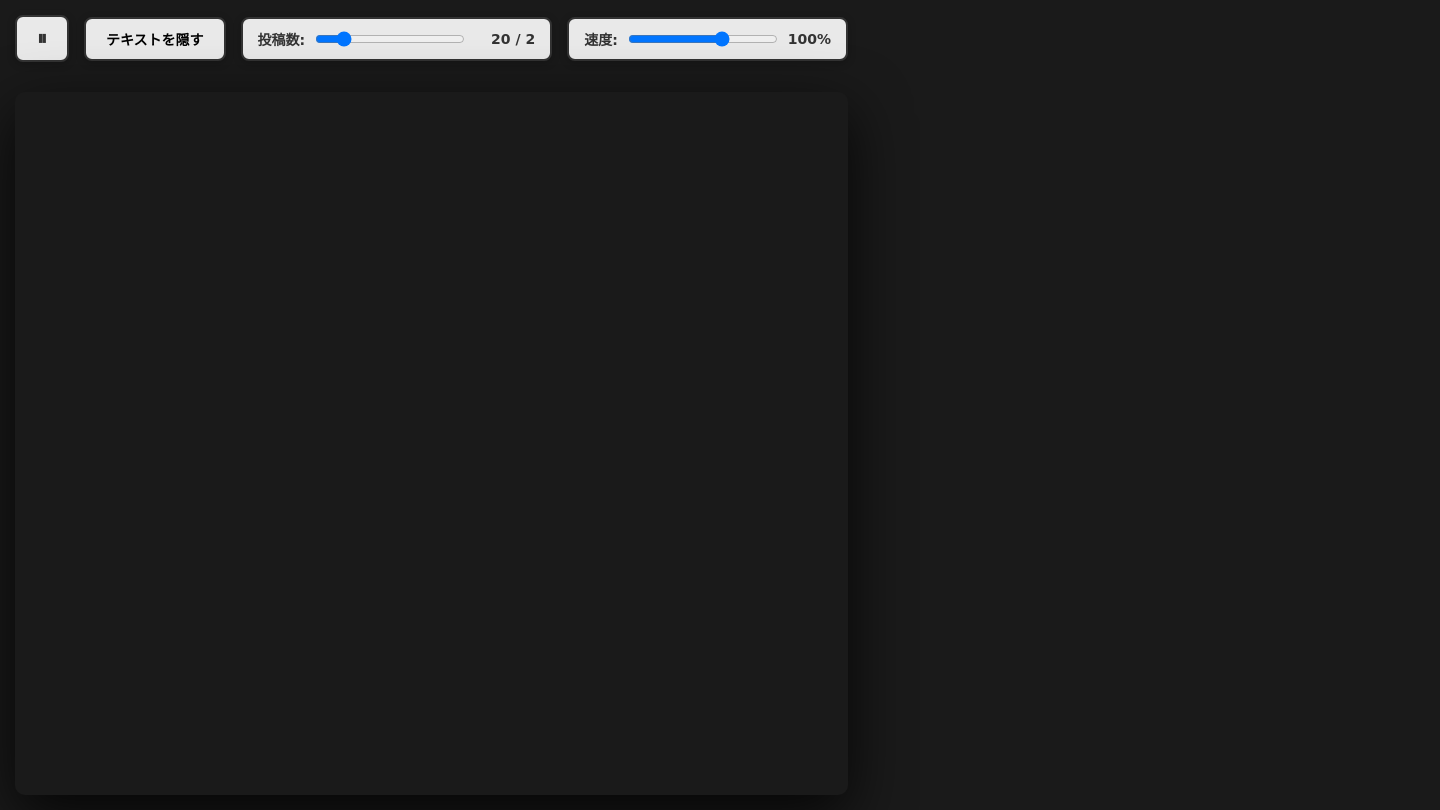
Test case: CreativeWall - Download Feature Integration › Error handling › should display error notification on capture failure
Note: Pause the board
Step 1. Click the button "⏸" → coordinates (42, 38), box top-left (15, 15), bottom-right (69, 62)
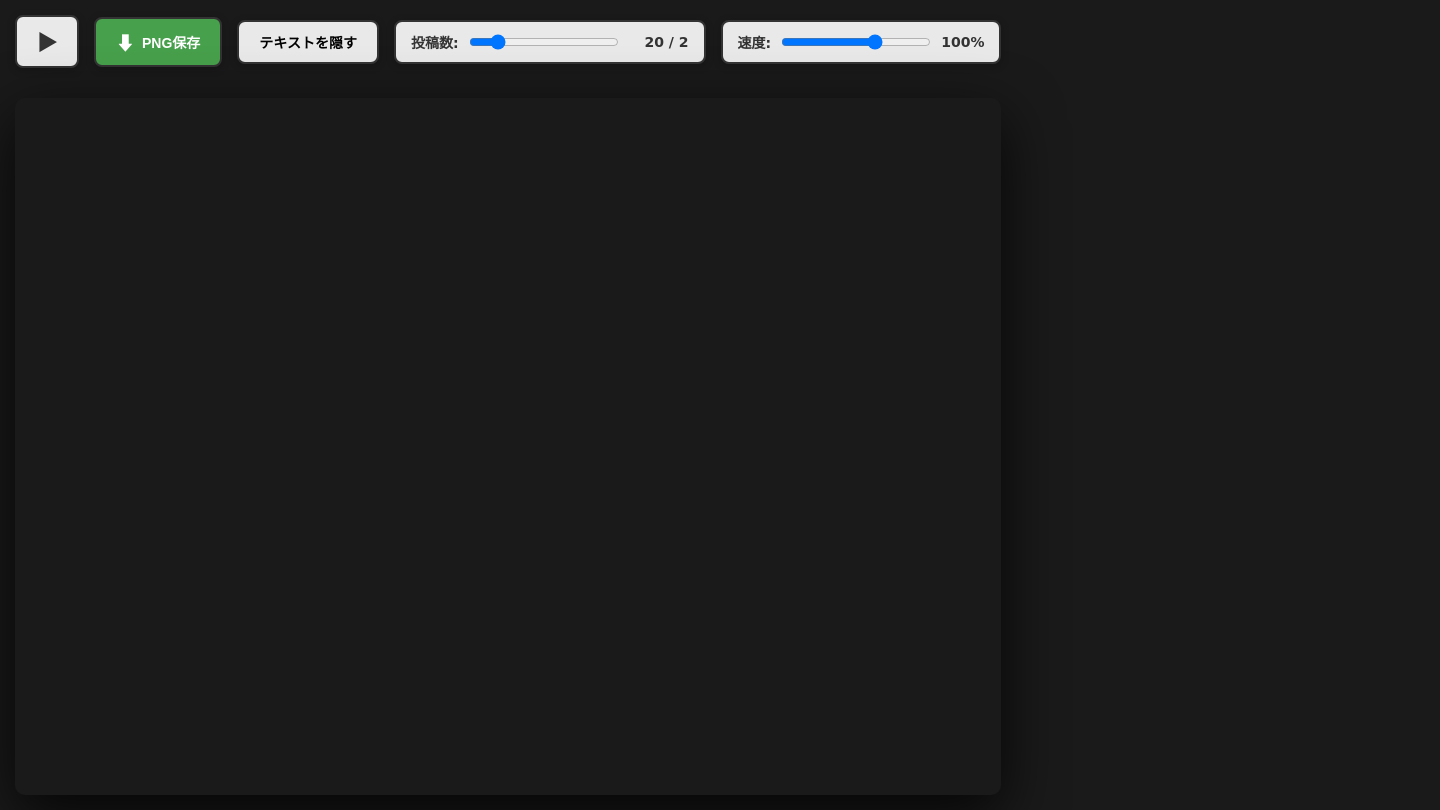
Note: Try to download
Step 2. Click the button with class "download-button" → coordinates (158, 42), box top-left (94, 16), bottom-right (222, 66)
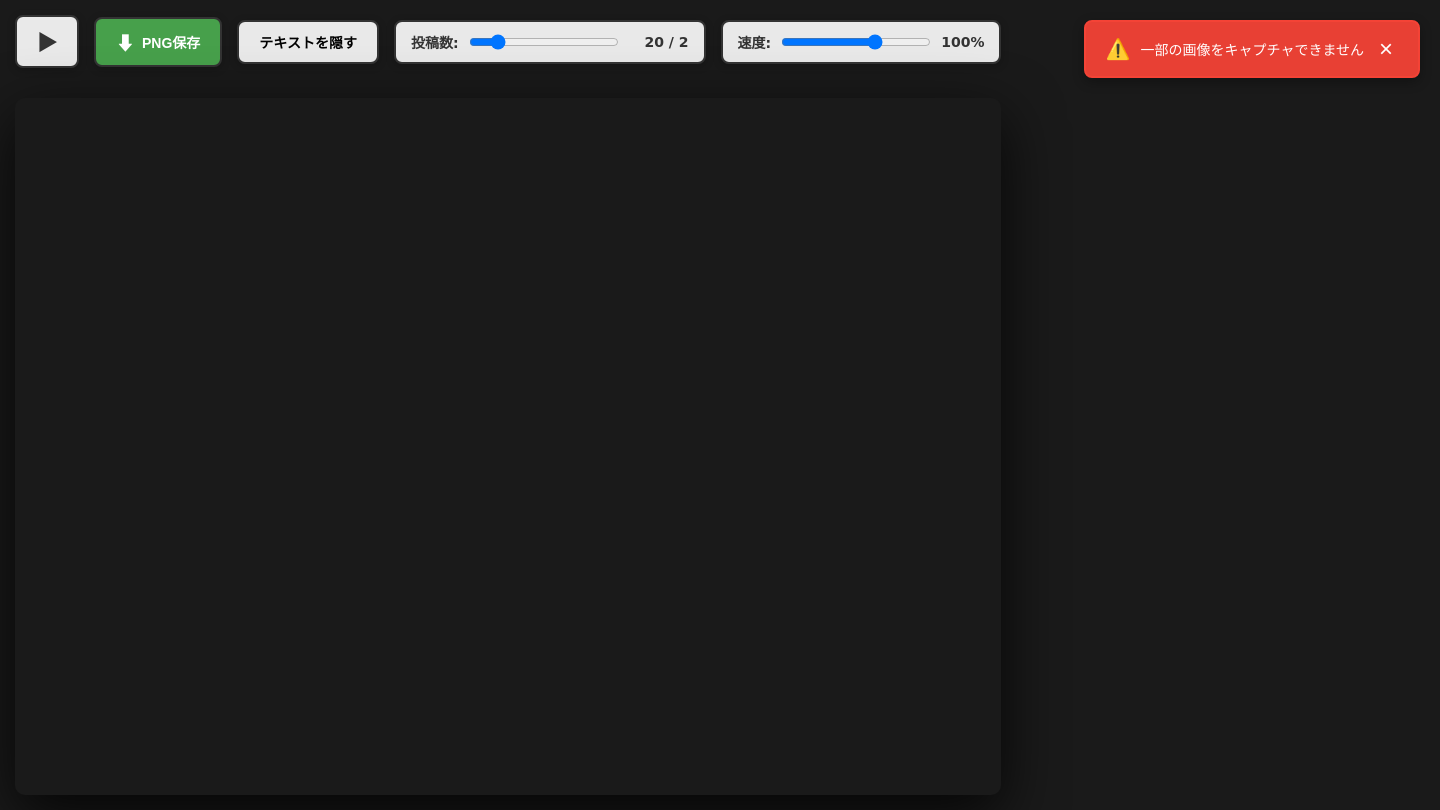
Result: the message "⚠️ 一部の画像をキャプチャできません ×" is shown at top-left (1084, 20), bottom-right (1420, 78)
Result: the message with class "error-notification" shows "一部の画像をキャプチャできません" at top-left (1140, 42), bottom-right (1364, 58)
